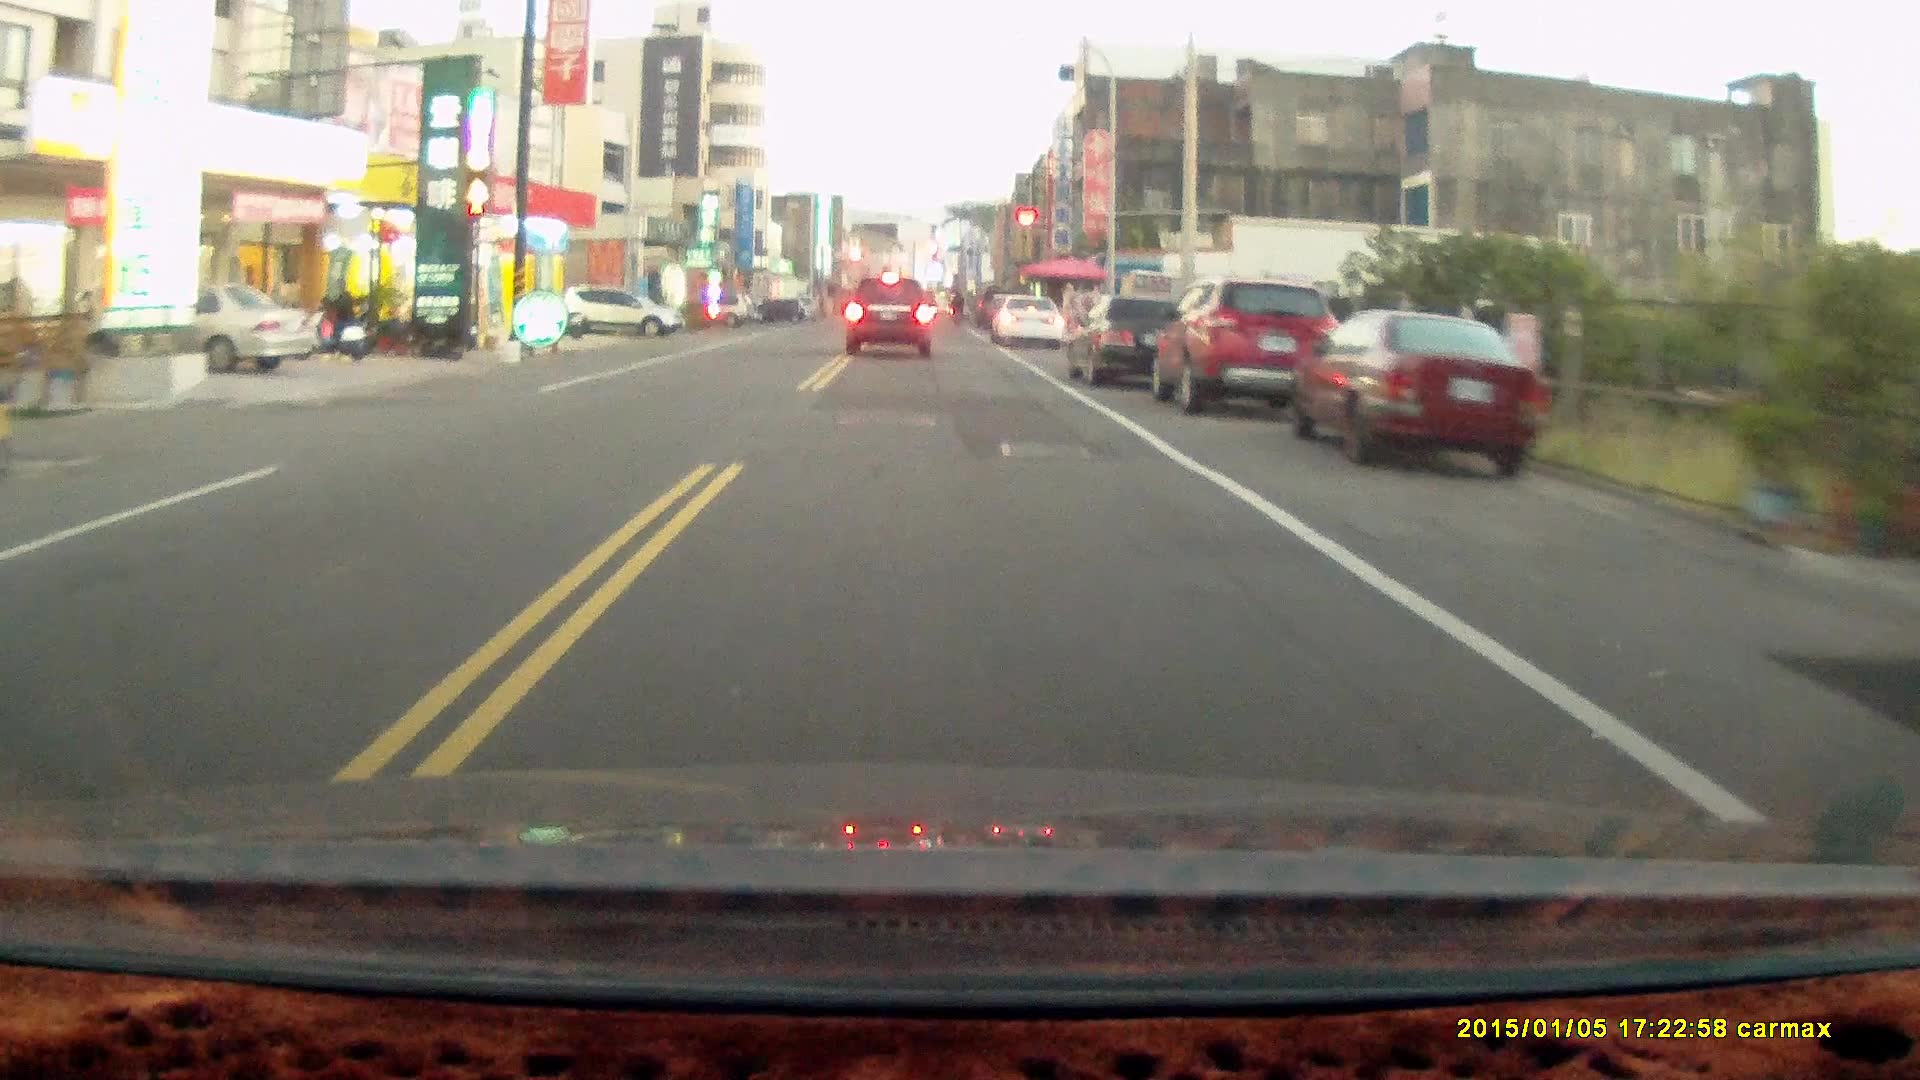vehicle: (1288, 306, 1552, 479), (1156, 276, 1354, 415), (94, 284, 311, 378), (1067, 294, 1201, 386), (847, 276, 939, 357), (562, 286, 684, 342), (993, 295, 1065, 352)
